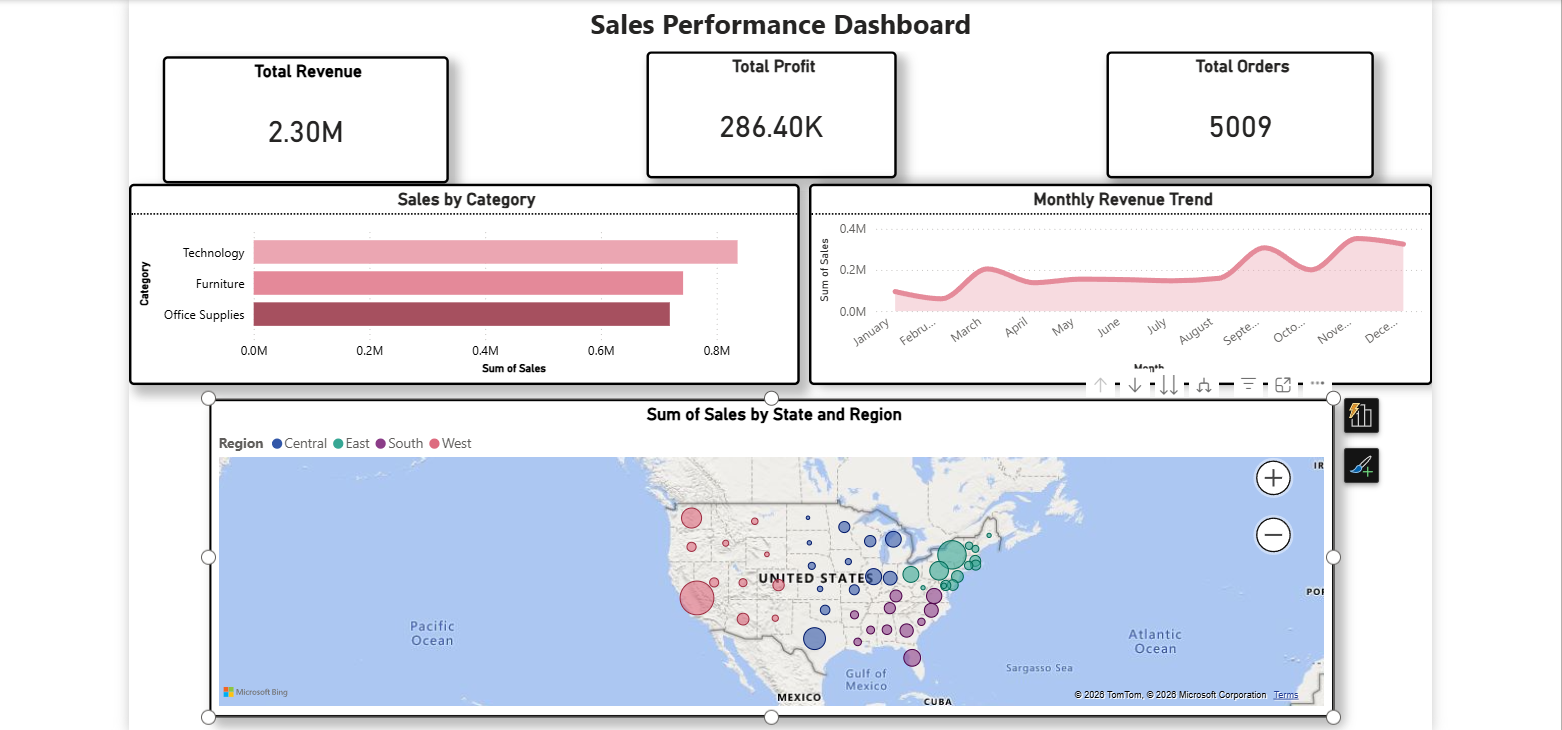

The page's visual inventory and layout, read from the dashboard file:
{"tool":"powerbi","page":{"name":"Page 1","canvas":[1280,720],"ordinal":0},"visuals":[{"type":"card","title":"Total Profit","fields":{"Values":["Sum(Superstore_Cleaned.Profit)"]},"box":[508,50.3,245.4,125.2],"z":0},{"type":"card","title":"Total Orders","fields":{"Values":["Count(Superstore_Cleaned.Order ID)"]},"box":[959.5,50.3,262.6,125.2],"z":1000},{"type":"card","title":"Total Revenue","fields":{"Values":["Sum(Superstore_Cleaned.Sales)"]},"box":[33.1,55.2,281,125.2],"z":2000},{"type":"clusteredBarChart","title":"Sales by Category","fields":{"Category":["Superstore_Cleaned.Category"],"Y":["Sum(Superstore_Cleaned.Sales)"]},"box":[0,180.4,658.1,197.8],"z":3000},{"type":"lineChart","title":"Monthly Revenue Trend","fields":{"Category":["Superstore_Cleaned.Order Date.Variation.Date Hierarchy.Month"],"Y":["Sum(Superstore_Cleaned.Sales)"]},"box":[668,180.4,612,197.8],"z":4000},{"type":"map","fields":{"Size":["Sum(Superstore_Cleaned.Sales)"],"Category":["Superstore_Cleaned.State","Superstore_Cleaned.Country"],"Series":["Superstore_Cleaned.Region"]},"box":[77.9,390.9,1105.2,313],"z":5000},{"type":"textbox","box":[0,0,1279.8,50.3],"z":6000}]}

Visuals, with their boxes in screenshot pixels (x1, y1, x2, y2):
"Total Profit" card: box=[653, 50, 898, 175]
"Total Orders" card: box=[1103, 50, 1365, 175]
"Total Revenue" card: box=[179, 55, 460, 180]
"Sales by Category" clusteredBarChart: box=[146, 180, 803, 377]
"Monthly Revenue Trend" lineChart: box=[813, 180, 1423, 377]
map - Sum(Superstore_Cleaned.Sales) x Superstore_Cleaned.State: box=[224, 390, 1326, 702]
textbox: box=[146, 0, 1423, 50]
